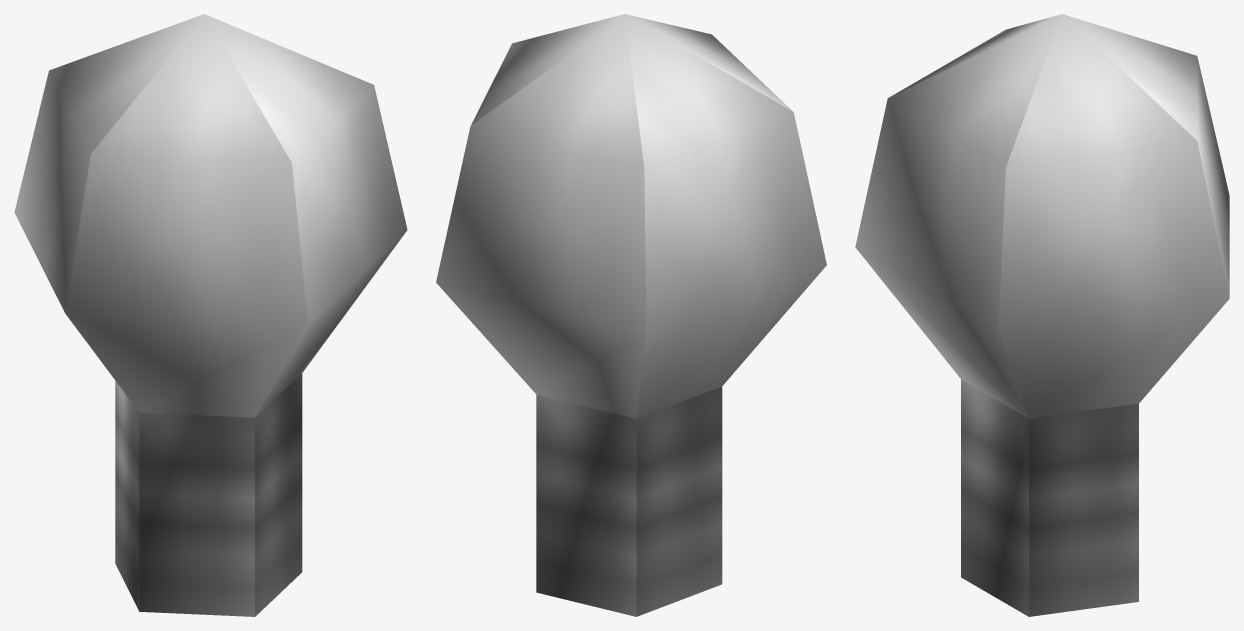
Rendered from LightBulb.fbx.
3 views of the same model, side by side, from view 1: azimuth 30°, elevation 25°; view 2: azimuth 150°, elevation 25°; view 3: azimuth 270°, elevation 25° (orthographic).
Parts seen in each view (by area): view 1: Maya_File_Assets:TexturedAssetsCurrent:QuentonAssets02:Light; view 2: Maya_File_Assets:TexturedAssetsCurrent:QuentonAssets02:Light; view 3: Maya_File_Assets:TexturedAssetsCurrent:QuentonAssets02:Light.
Part boxes in pixels (left/top/right/bottom): Maya_File_Assets:TexturedAssetsCurrent:QuentonAssets02:Light: left=14, top=14, right=407, bottom=616; Maya_File_Assets:TexturedAssetsCurrent:QuentonAssets02:Light: left=436, top=14, right=826, bottom=616; Maya_File_Assets:TexturedAssetsCurrent:QuentonAssets02:Light: left=855, top=14, right=1229, bottom=616.
Bounding box in the file's own units: 0.1071 × 0.1692 × 0.1019.
